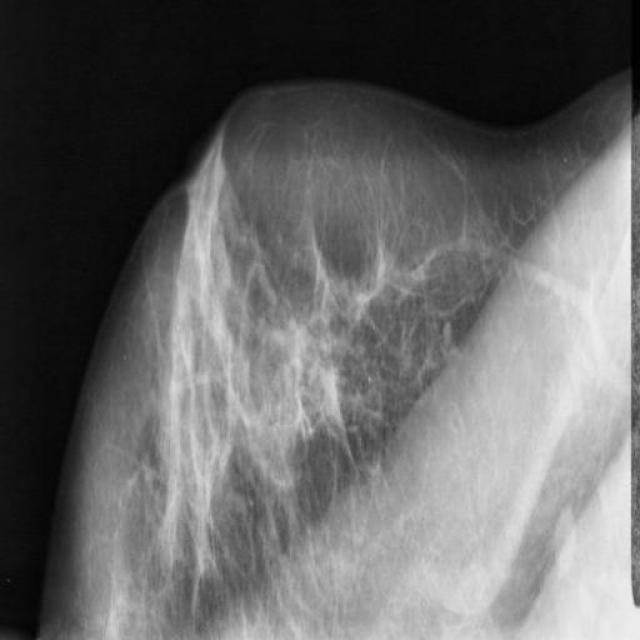cancer: (302, 200, 392, 340)
